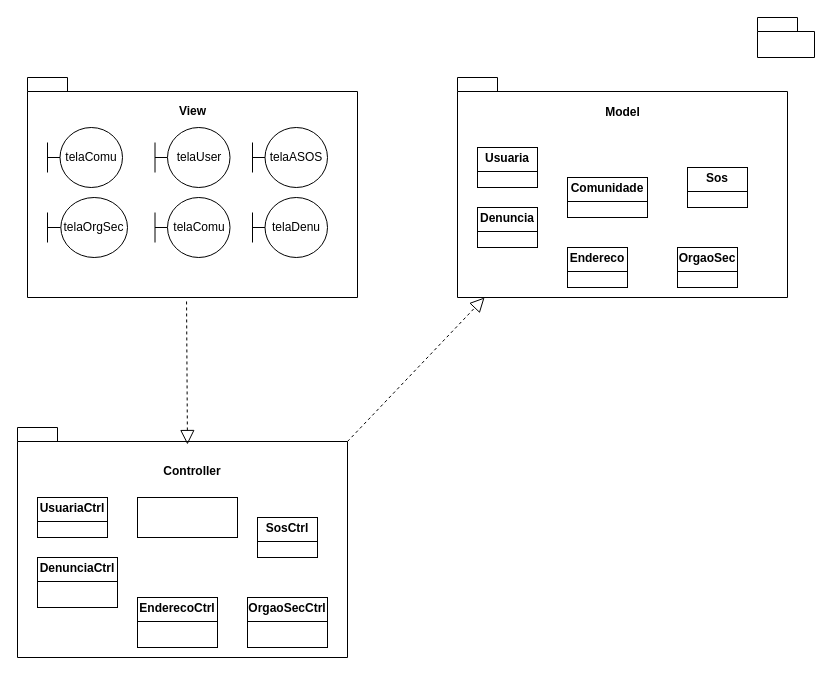
Some shapes in this 832 by 675 pixel diagram are drawn without their labels. The shapes that lost their labels are listed below. From the top down, each one's box as (x1, y1, x2, y2) in pixels, then its label:
(756, 16, 814, 58): pkg
(136, 496, 238, 538): ComunidadeCtrl
